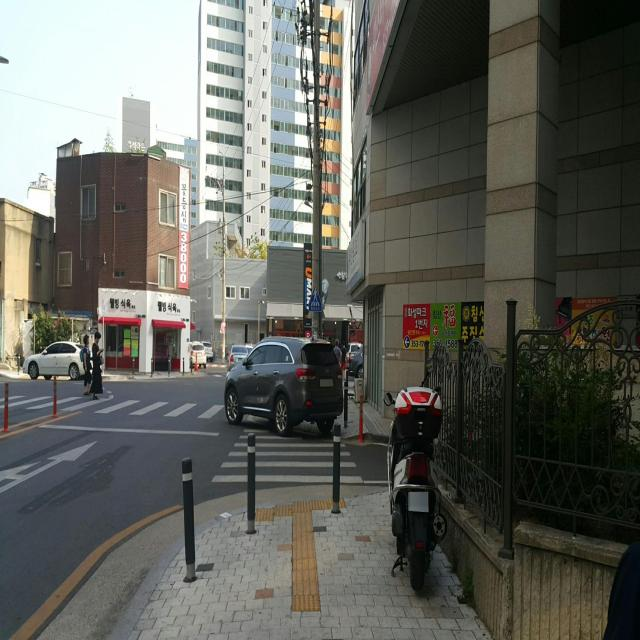횡단보도: (211, 427, 363, 486), (0, 393, 227, 421)
